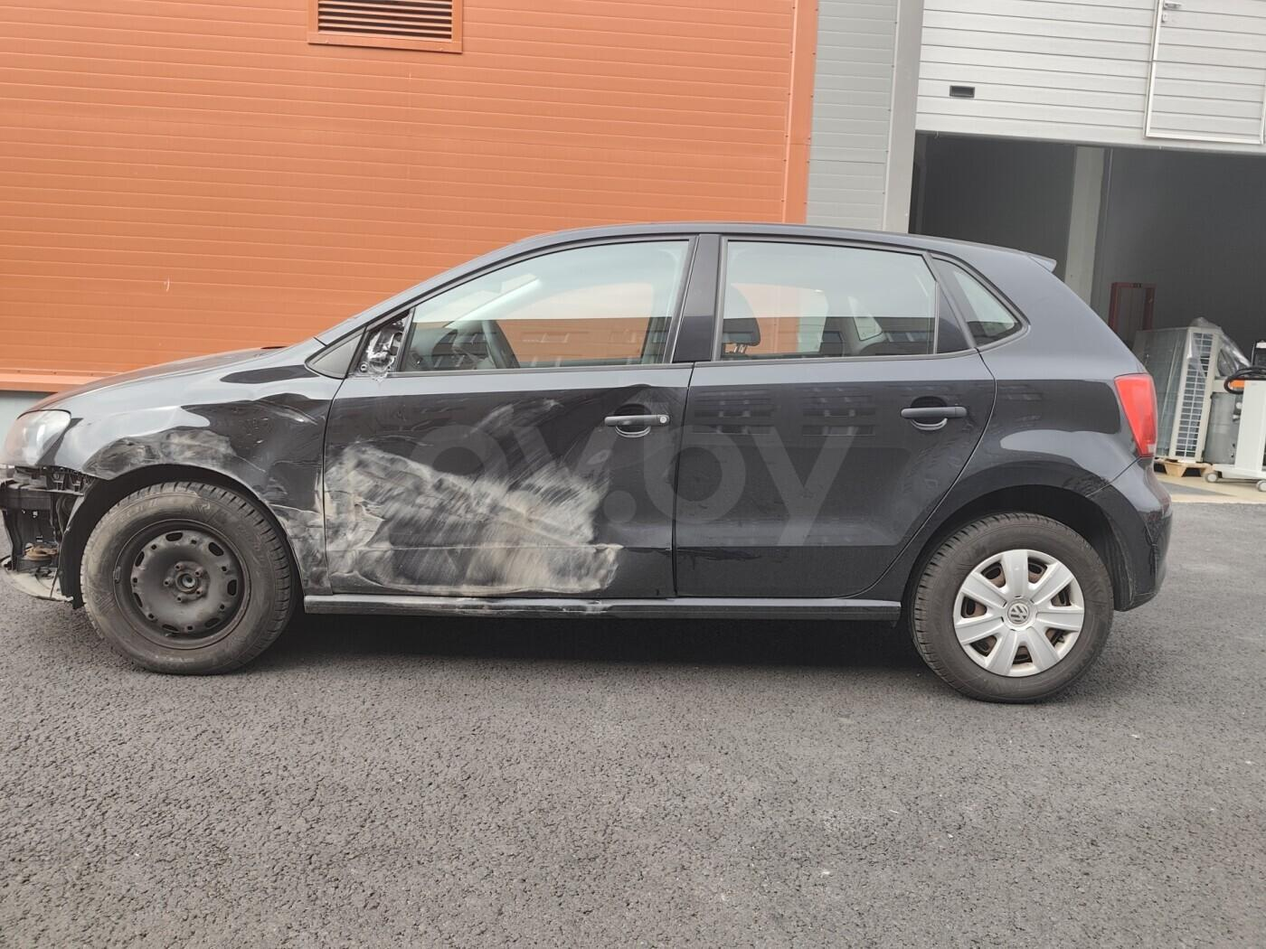Polo_2009-2015: (0, 211, 1172, 707)
